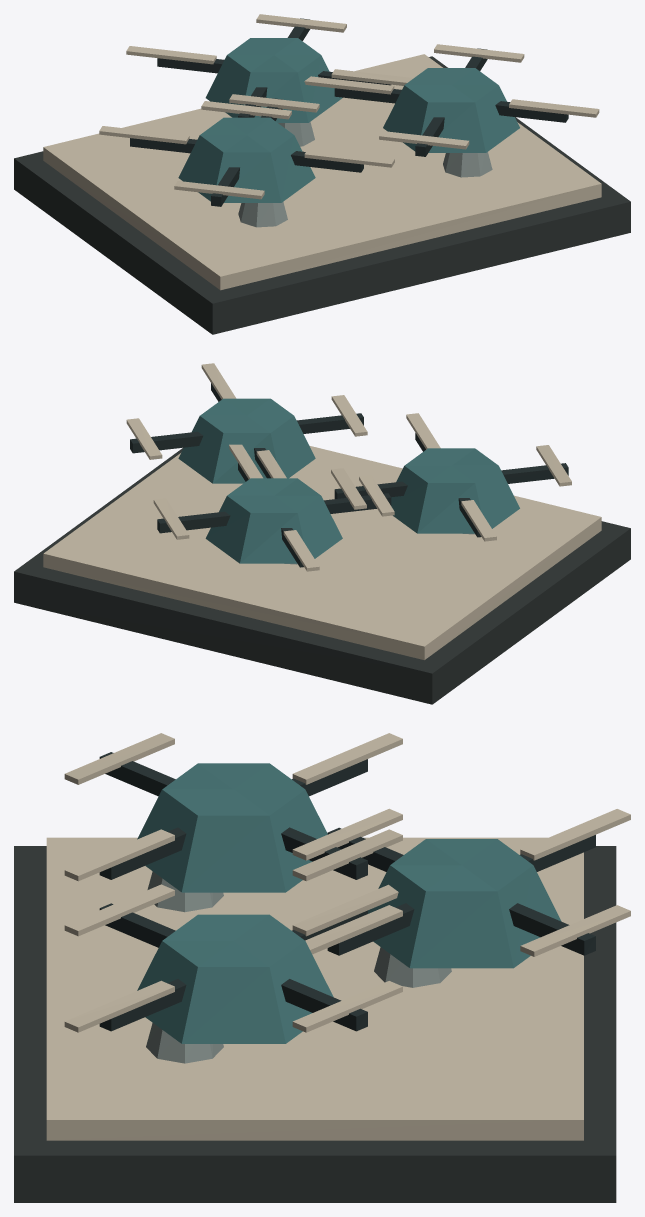
File: Agricultural-Drones.glb
3 views of the same model, one above another, from view 1: azimuth 30°, elevation 25°; view 2: azimuth 150°, elevation 25°; view 3: azimuth 270°, elevation 25° (orthographic). The views are drawn at different scales.
Parts seen in each view (by area): view 1: agricultural-drones-static-drone-cream-rotors, agricultural-drones-static-drone-pad-rubber, agricultural-drones-static-drone-muted-teal, agricultural-drones-static-drone-dark-metal, agricultural-drones-static-drone-galvanized; view 2: agricultural-drones-static-drone-cream-rotors, agricultural-drones-static-drone-pad-rubber, agricultural-drones-static-drone-muted-teal, agricultural-drones-static-drone-dark-metal; view 3: agricultural-drones-static-drone-cream-rotors, agricultural-drones-static-drone-pad-rubber, agricultural-drones-static-drone-muted-teal, agricultural-drones-static-drone-dark-metal, agricultural-drones-static-drone-galvanized.
Boxes of the visible parts, left/top/right/bottom form: agricultural-drones-static-drone-cream-rotors: left=43, top=14, right=601, bottom=290; agricultural-drones-static-drone-pad-rubber: left=14, top=56, right=630, bottom=334; agricultural-drones-static-drone-muted-teal: left=178, top=38, right=519, bottom=202; agricultural-drones-static-drone-dark-metal: left=130, top=18, right=568, bottom=206; agricultural-drones-static-drone-galvanized: left=238, top=122, right=492, bottom=227; agricultural-drones-static-drone-cream-rotors: left=43, top=363, right=601, bottom=660; agricultural-drones-static-drone-pad-rubber: left=14, top=447, right=630, bottom=704; agricultural-drones-static-drone-muted-teal: left=178, top=398, right=519, bottom=563; agricultural-drones-static-drone-dark-metal: left=130, top=383, right=568, bottom=567; agricultural-drones-static-drone-cream-rotors: left=46, top=733, right=630, bottom=1140; agricultural-drones-static-drone-pad-rubber: left=14, top=846, right=616, bottom=1202; agricultural-drones-static-drone-muted-teal: left=137, top=763, right=561, bottom=1043; agricultural-drones-static-drone-dark-metal: left=99, top=752, right=595, bottom=1031; agricultural-drones-static-drone-galvanized: left=146, top=871, right=451, bottom=1063.
Size of the model in its own units: 2.25 by 0.62 by 1.89.
